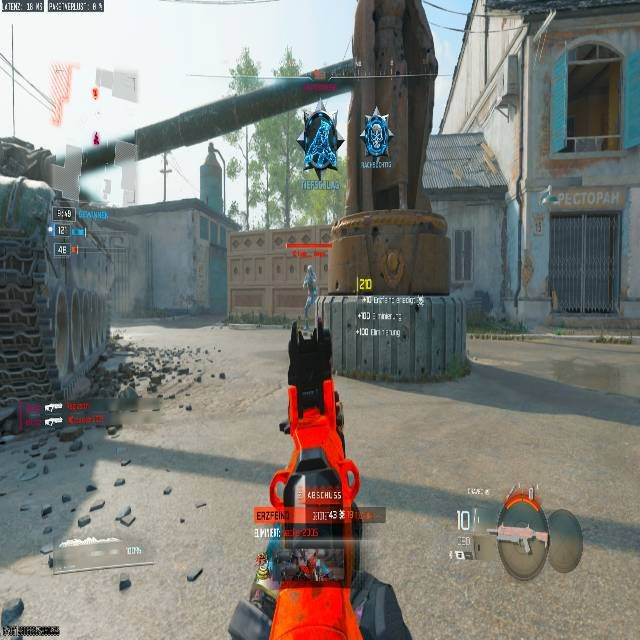player: (297, 104, 341, 174), (361, 108, 391, 165), (299, 265, 323, 325)
